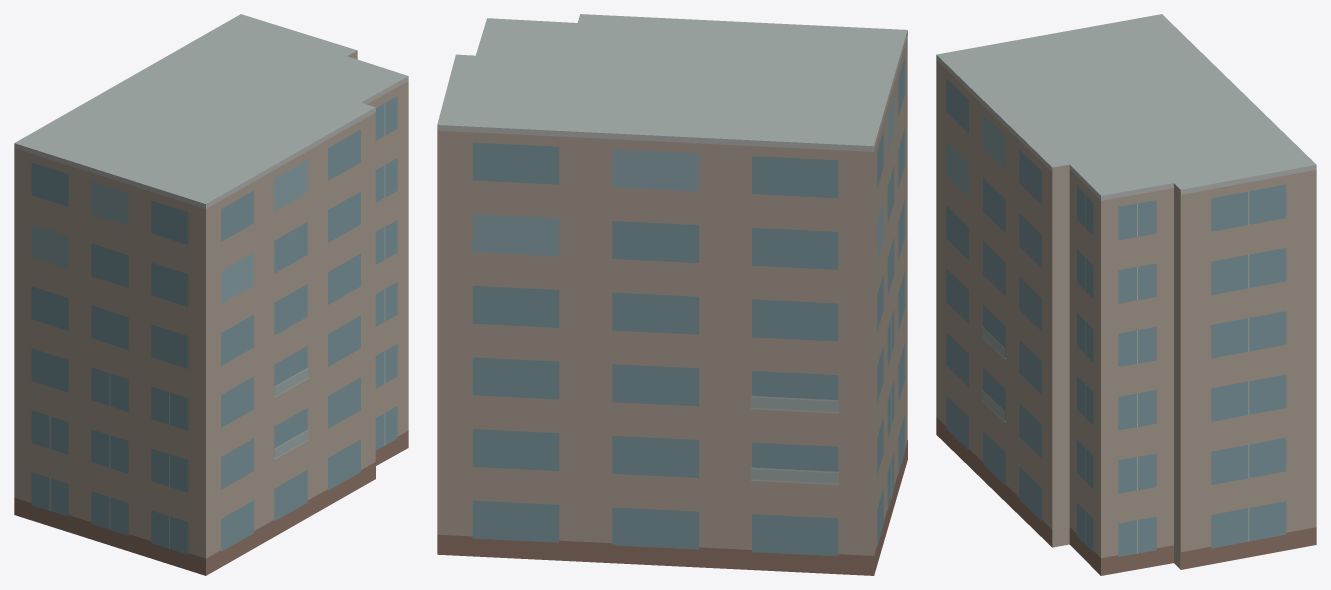
The model's file is survey-upis-32529636.glb.
The picture shows the model from 3 angles, left to right: view 1: azimuth 30°, elevation 25°; view 2: azimuth 150°, elevation 25°; view 3: azimuth 270°, elevation 25°; orthographic projection. The views are drawn at different scales.
Parts seen in each view (by area): view 1: survey-upis-32529636.tmp; view 2: survey-upis-32529636.tmp; view 3: survey-upis-32529636.tmp.
Part boxes in pixels (<box>): survey-upis-32529636.tmp: <box>14,14,408,575</box>; survey-upis-32529636.tmp: <box>437,14,907,575</box>; survey-upis-32529636.tmp: <box>936,14,1316,575</box>.
Size of the model in its own units: 18.79 by 18.3 by 16.61.
